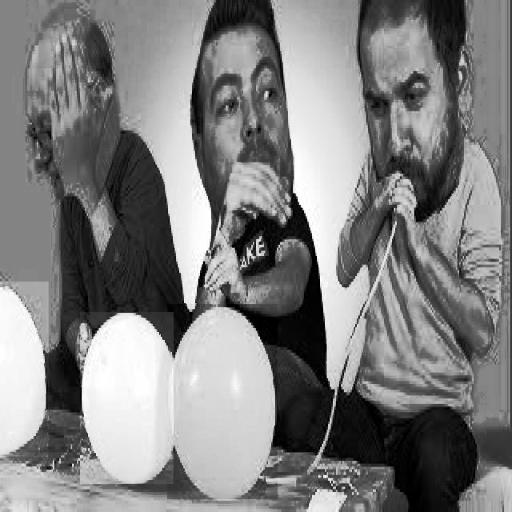balloon: (167, 304, 278, 500), (80, 312, 174, 484), (0, 282, 49, 456)
